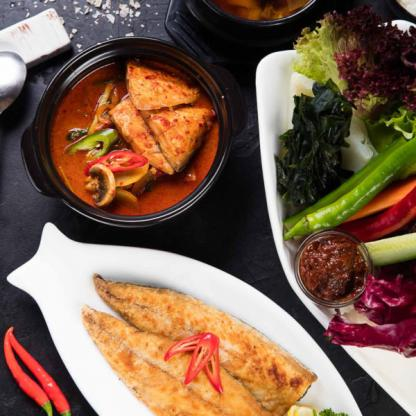Peixe: (63, 264, 308, 416)
